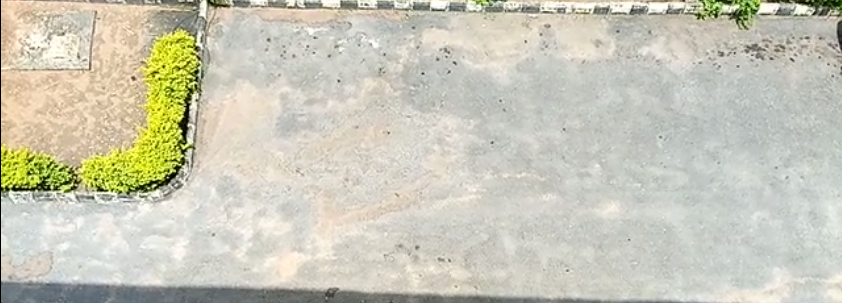one: (175, 2, 331, 195)
